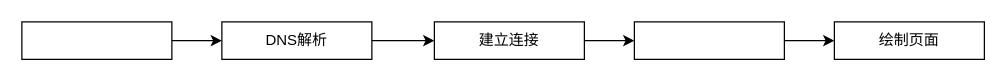
This 1006x81 diagram has some shape labels left out. The box of each missing label's shape, as (x1, y1, x2, y2) in pixels:
Webview容器初始化: (21, 21, 172, 59)
请求资源: (633, 21, 784, 59)
